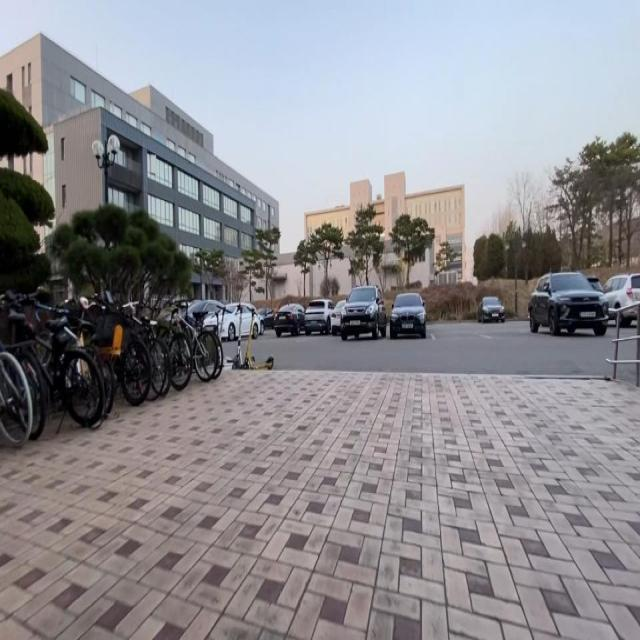sidewalk: (0, 369, 640, 640)
